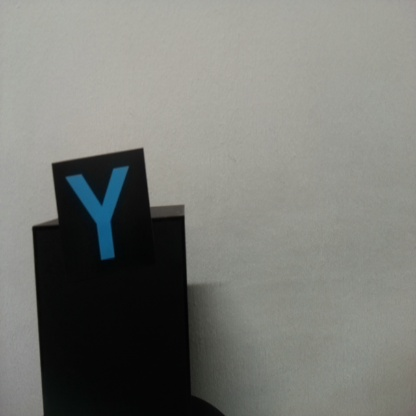id_14: (54, 162, 151, 272)
